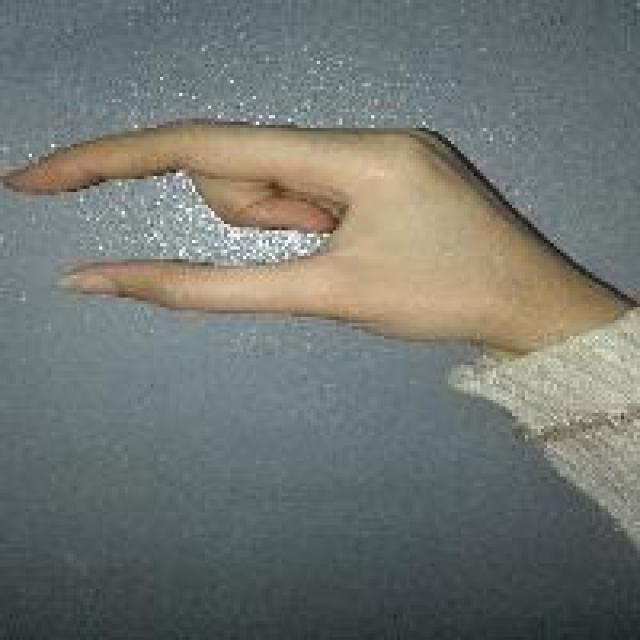Q: (0, 117, 538, 350)
